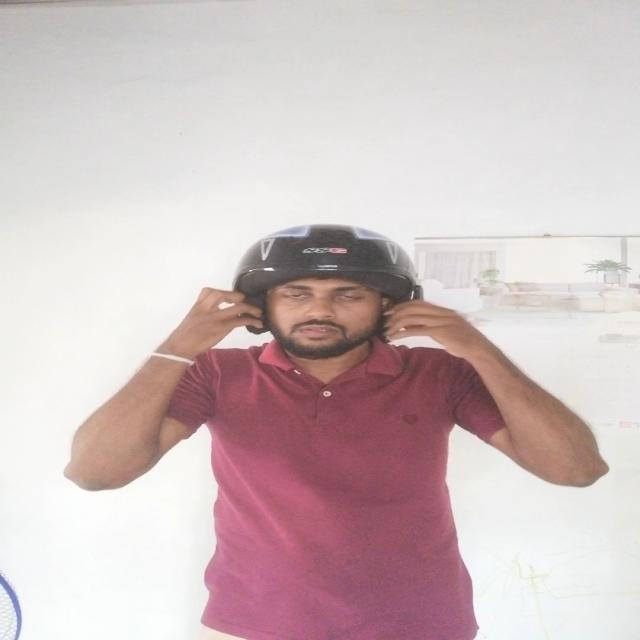Helmet_Wearer: (200, 223, 444, 397)
